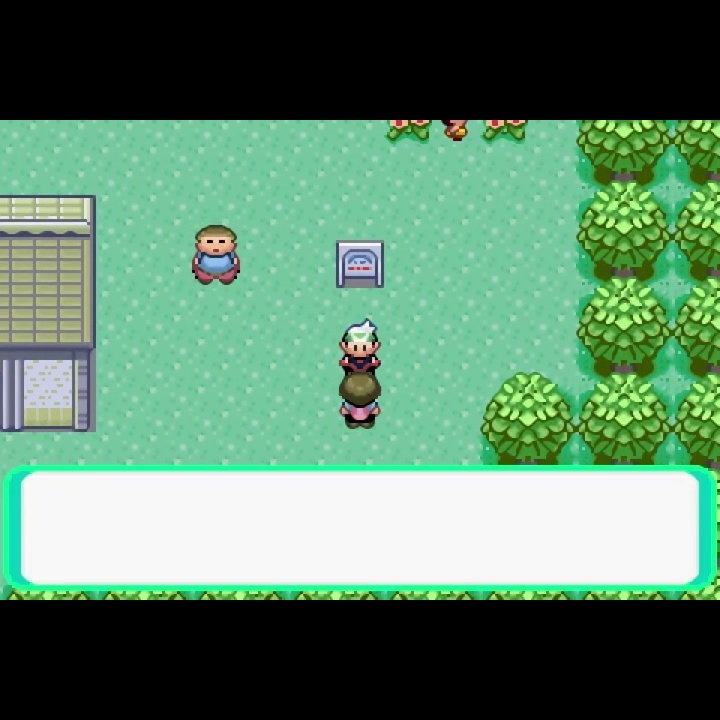house: (1, 192, 99, 434)
npc: (188, 222, 241, 290), (336, 373, 384, 433), (336, 317, 385, 375)
wall: (575, 180, 673, 278), (575, 276, 672, 372), (479, 370, 575, 465), (575, 371, 672, 465), (575, 121, 672, 181), (672, 180, 720, 277), (673, 275, 720, 374), (672, 372, 720, 465), (672, 119, 720, 183)
